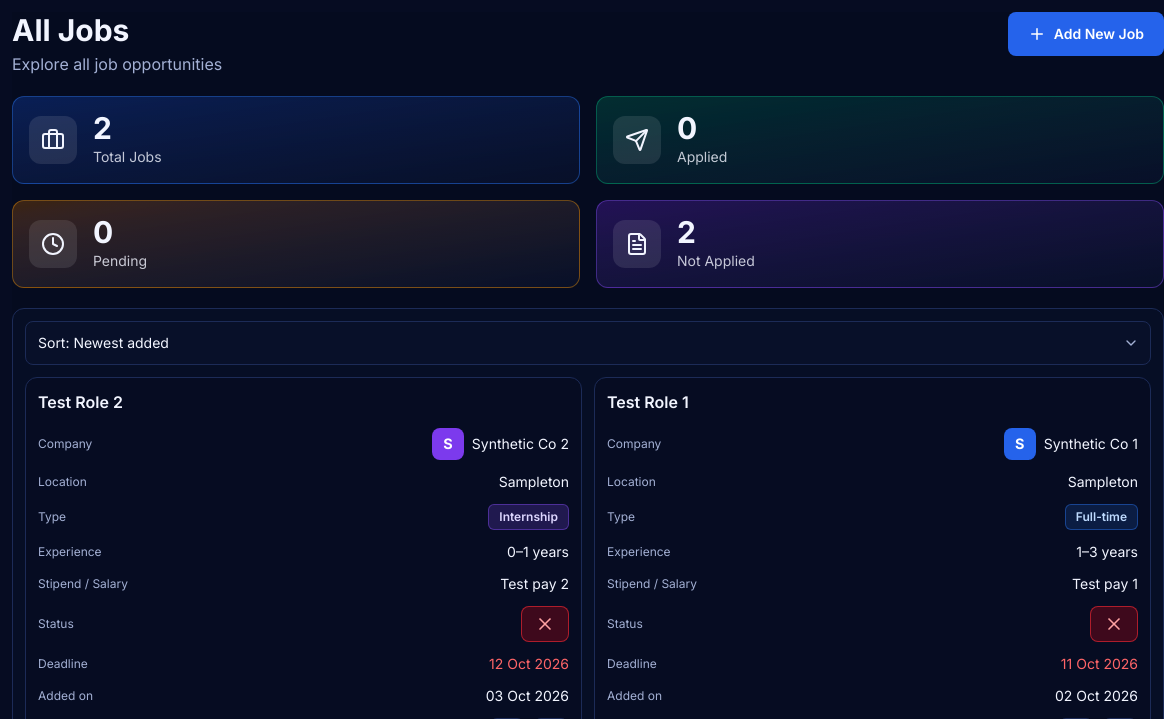
Test: All Jobs: personal status control › marks a job as applied via the server route, sending only the status (never a member ID), and updates counts
Click the button named "Test Role 1 at Synthetic Co 1: Not applied. Mark as applied".
click(1114, 624)  # box [1090,606,1138,642]
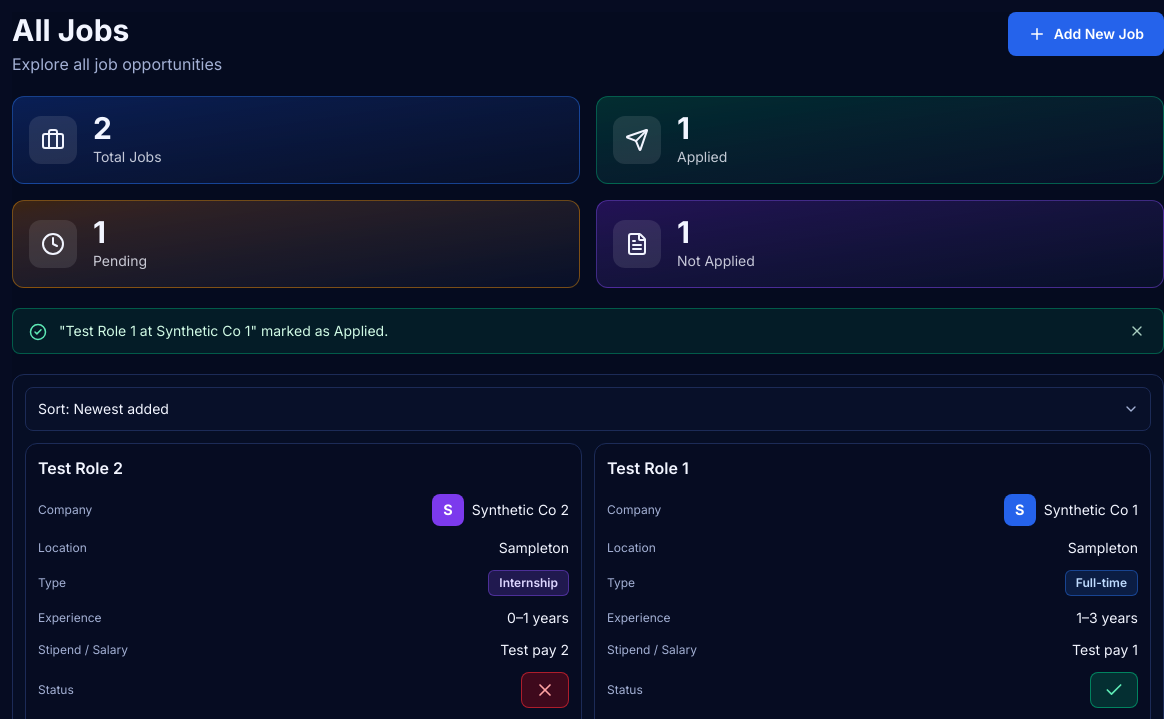
Result: the button named "Test Role 1 at Synthetic Co 1: Applied. Mark as not applied" is shown at [1090,672,1138,708]
Result: the message shows "marked as Applied" at [59,322,388,339]
Result: the 3rd text "1" is shown at [677,214,690,250]
